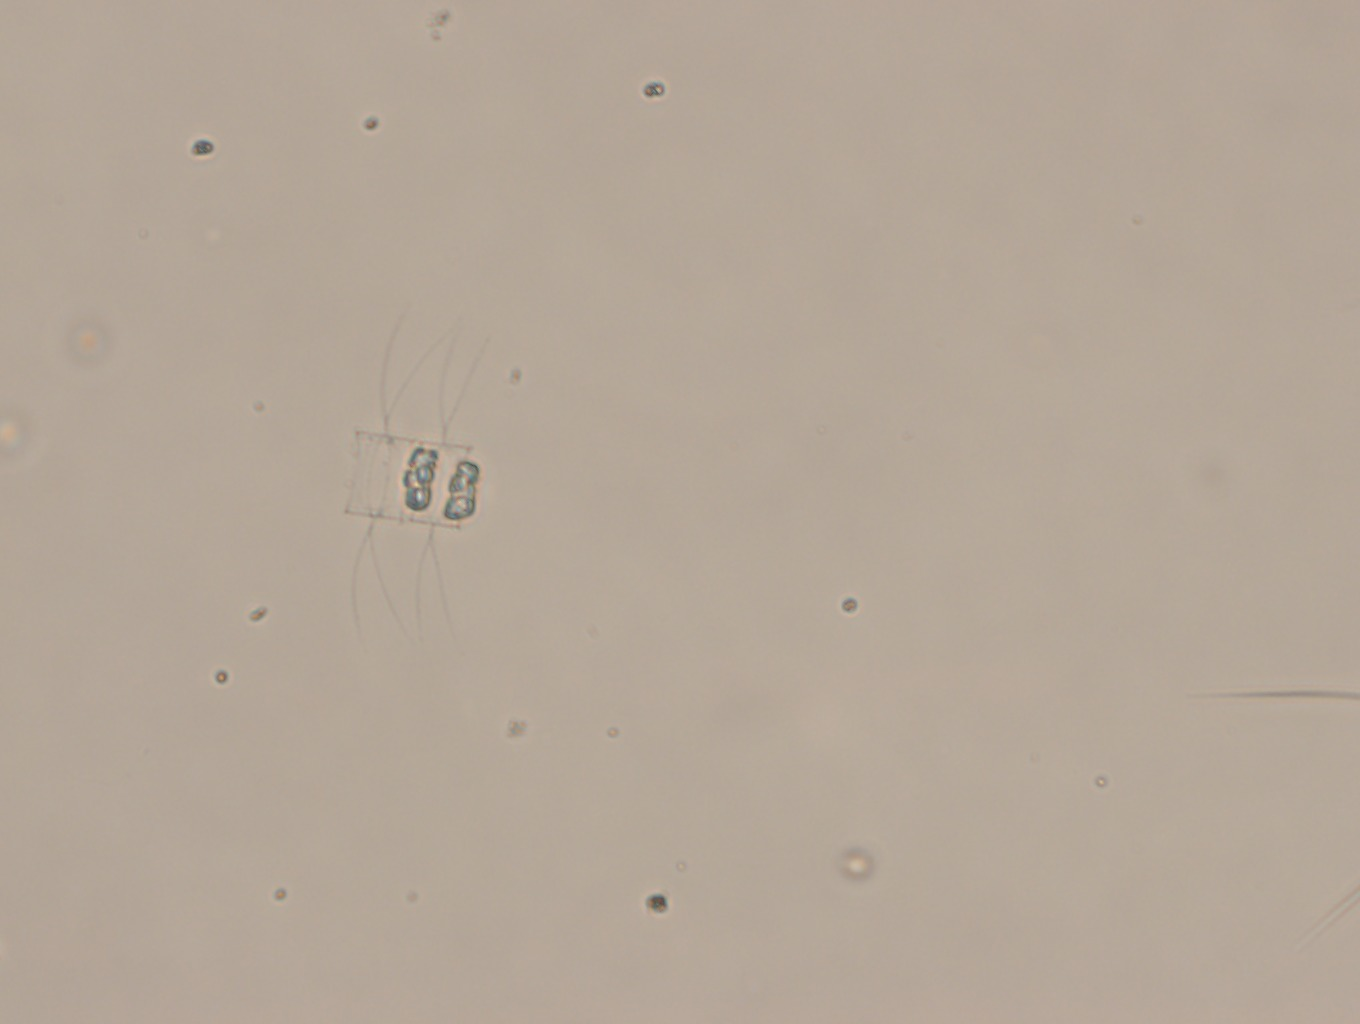chaetoceros: (328, 293, 514, 689)
